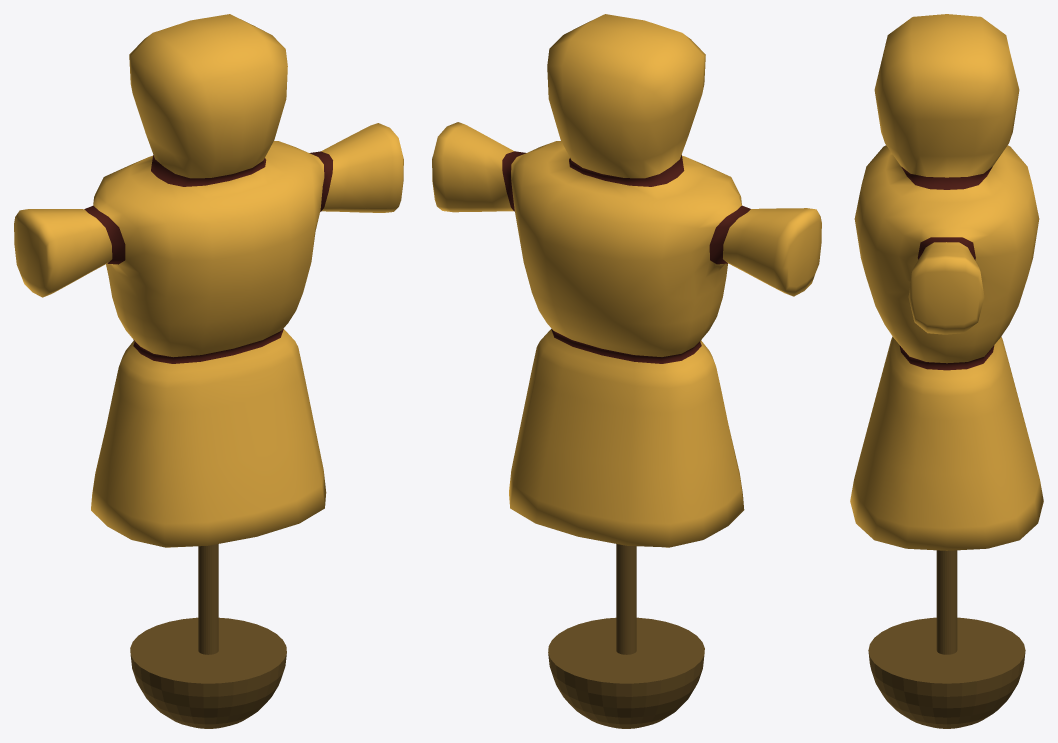
Rendered from Dummy1.fbx.
The picture shows the model from 3 angles, left to right: view 1: azimuth 30°, elevation 25°; view 2: azimuth 150°, elevation 25°; view 3: azimuth 270°, elevation 25°; orthographic projection.
Parts seen in each view (by area): view 1: Cube, Sphere; view 2: Cube, Sphere; view 3: Cube, Sphere.
Part boxes in pixels (left/top/right/bottom): Cube: left=14, top=14, right=403, bottom=547; Sphere: left=130, top=544, right=286, bottom=728; Cube: left=432, top=14, right=821, bottom=547; Sphere: left=548, top=544, right=704, bottom=728; Cube: left=850, top=14, right=1043, bottom=550; Sphere: left=868, top=550, right=1025, bottom=728.
Bounding box in the file's own units: 0.9924 × 0.4558 × 1.79.
